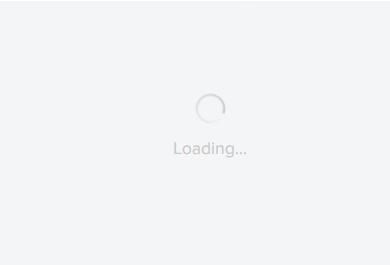0-Loading: (164, 88, 254, 164)
